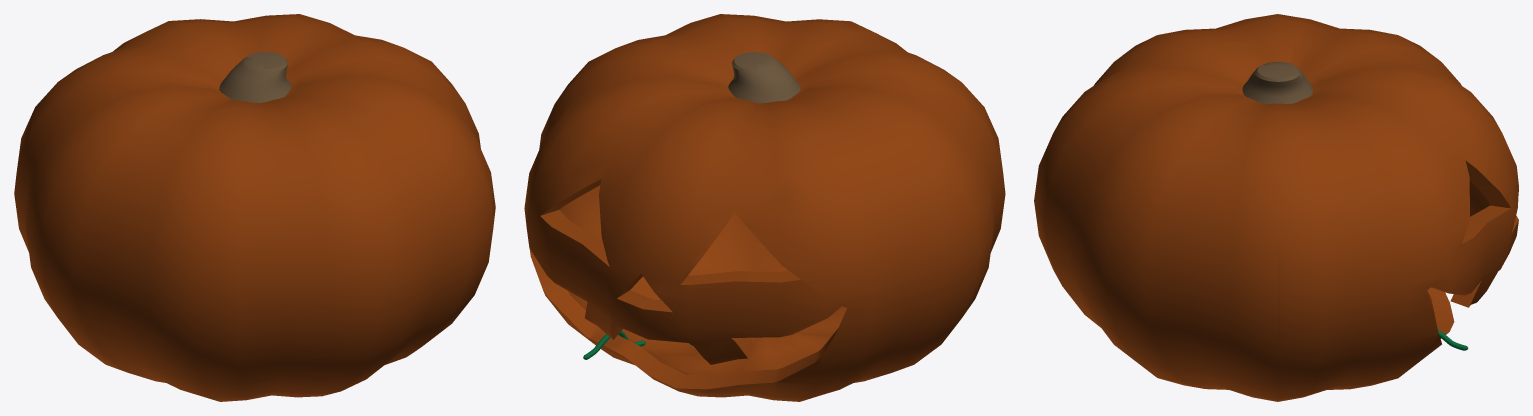
File: pumpkinqaq.fbx
The picture shows the model from 3 angles, left to right: view 1: azimuth 30°, elevation 25°; view 2: azimuth 150°, elevation 25°; view 3: azimuth 270°, elevation 25°; orthographic projection.
Visible parts, largest first — view 1: BezierCurve.002; view 2: BezierCurve.002; view 3: BezierCurve.002.
Boxes of the visible parts, box(x1,y1,x2,y2) form: BezierCurve.002: box(14, 14, 495, 401); BezierCurve.002: box(524, 14, 1005, 401); BezierCurve.002: box(1034, 14, 1518, 401).
Size of the model in its own units: 310 by 203 by 309.
